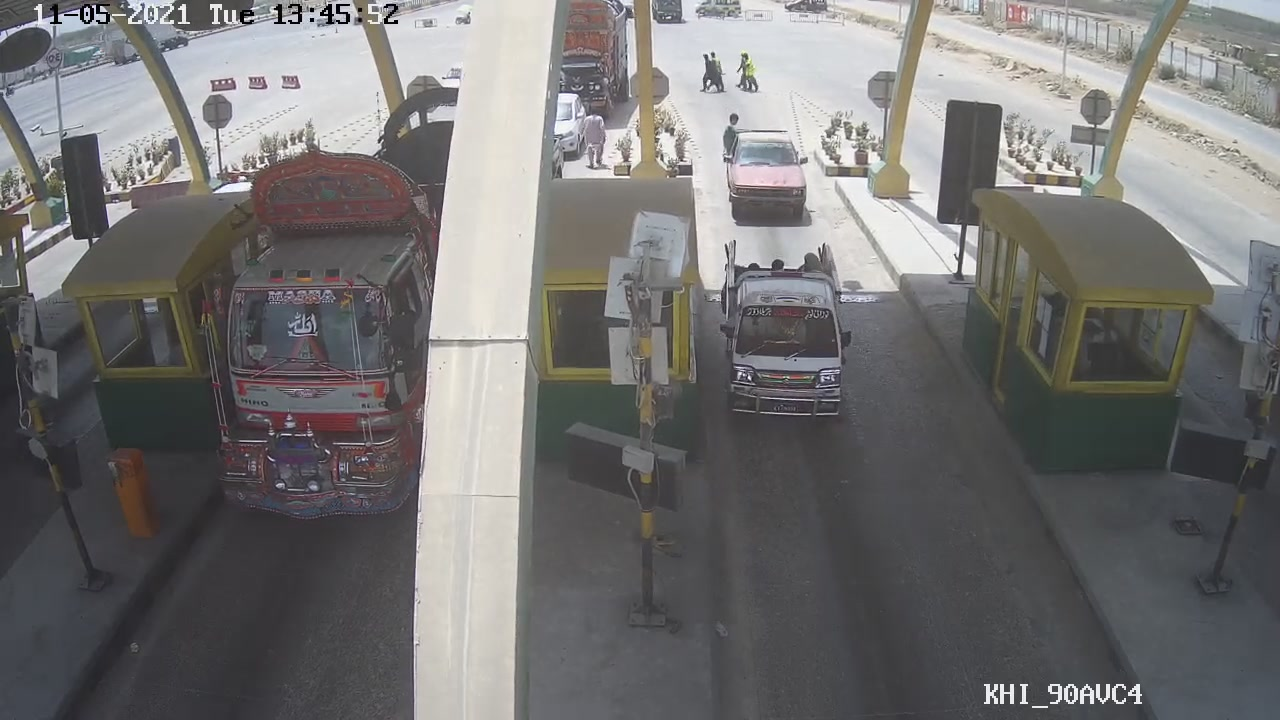F1: (717, 248, 862, 434), (713, 102, 832, 226)
